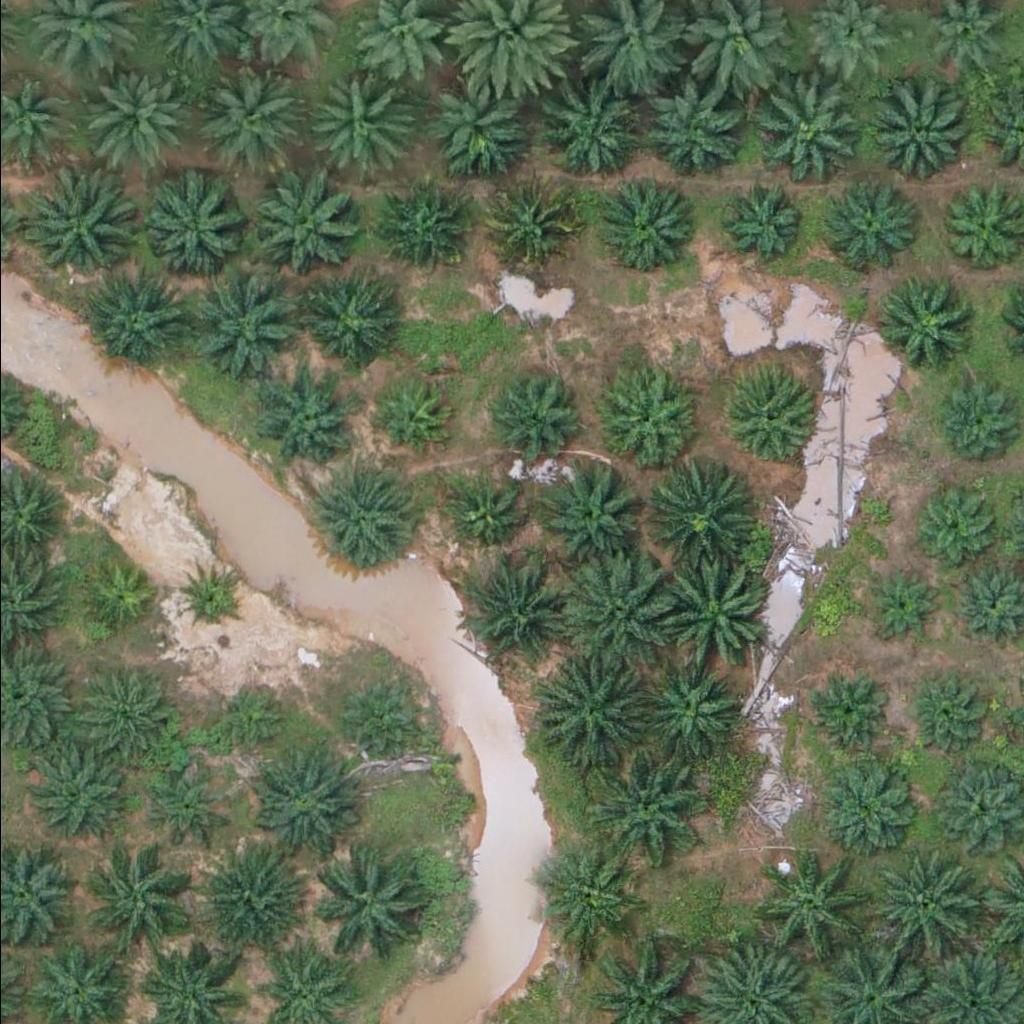Kelapa_Sawit: (533, 651, 647, 764), (316, 848, 429, 961), (243, 742, 356, 855), (192, 268, 305, 381), (248, 169, 361, 282), (137, 173, 250, 286), (638, 458, 751, 571), (749, 73, 862, 186), (84, 847, 198, 959), (863, 79, 977, 191), (188, 838, 301, 950), (592, 751, 705, 863), (559, 559, 672, 671), (25, 172, 138, 284), (755, 852, 868, 964), (864, 852, 977, 964), (655, 558, 768, 670), (541, 459, 642, 559), (21, 742, 122, 842), (83, 267, 184, 367), (599, 179, 700, 279), (540, 86, 641, 186), (303, 72, 404, 172), (191, 67, 292, 167), (83, 63, 184, 163), (921, 757, 1022, 857), (640, 658, 741, 758), (869, 274, 970, 374), (532, 847, 632, 947), (467, 557, 567, 657), (307, 467, 407, 567), (74, 665, 174, 765), (599, 370, 699, 470), (254, 373, 354, 473), (634, 81, 734, 181), (434, 71, 534, 171), (816, 756, 916, 856), (714, 368, 814, 468), (814, 176, 914, 276), (140, 765, 228, 853), (332, 670, 420, 758), (494, 367, 582, 455), (299, 278, 387, 366), (488, 178, 576, 266), (799, 668, 887, 756), (932, 185, 1020, 273), (719, 177, 807, 265), (380, 181, 468, 268), (930, 376, 1018, 463), (913, 486, 1001, 573), (909, 666, 997, 753), (868, 569, 944, 644), (375, 379, 451, 454), (450, 474, 525, 549), (214, 682, 289, 757), (76, 558, 151, 633), (175, 567, 238, 630)
